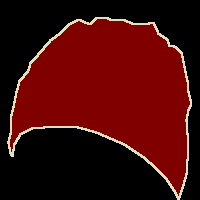hat: (8, 17, 191, 199)
